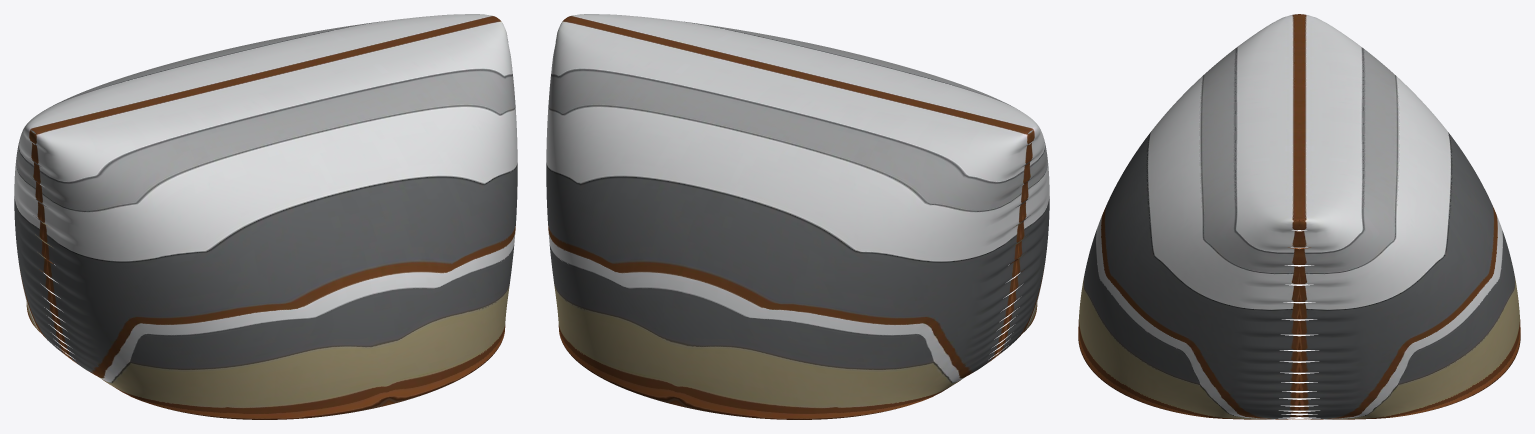
File: recessed_wall.glb
3 views of the same model, side by side, from view 1: azimuth 30°, elevation 25°; view 2: azimuth 150°, elevation 25°; view 3: azimuth 270°, elevation 25° (orthographic). The views are drawn at different scales.
Parts seen in each view (by area): view 1: recessed_wall; view 2: recessed_wall; view 3: recessed_wall.
Boxes of the visible parts, x1,y1,x2,y2 form: recessed_wall: (14,14,517,419); recessed_wall: (546,14,1049,419); recessed_wall: (1078,14,1520,419).
Size of the model in its own units: 0.989 by 0.4898 by 0.8931.
1 material, 1 textured.
